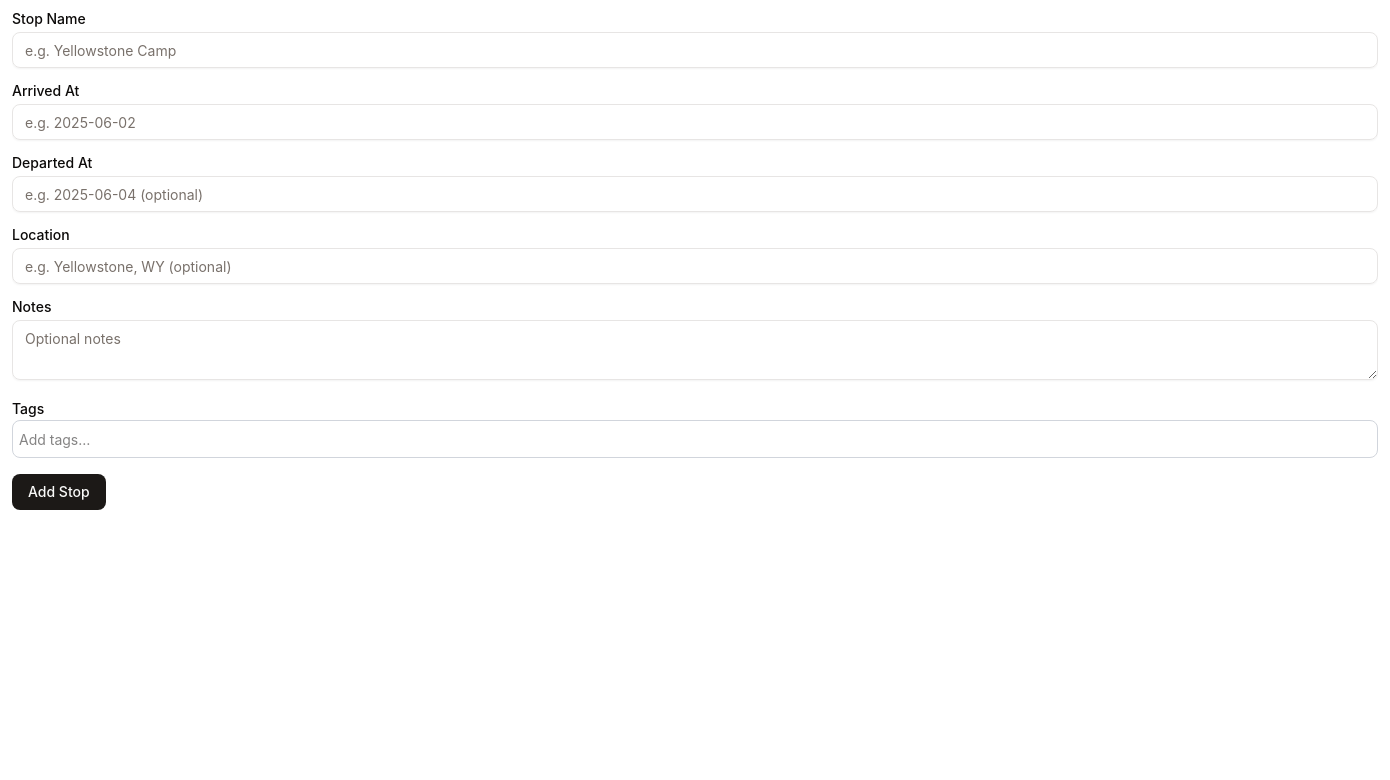
Test: StopForm › shows a validation error when submitted with an empty arrived_at
Type "Yellowstone Camp" into the field labelled "Stop Name" at (695, 50), box [12,32,1378,68]
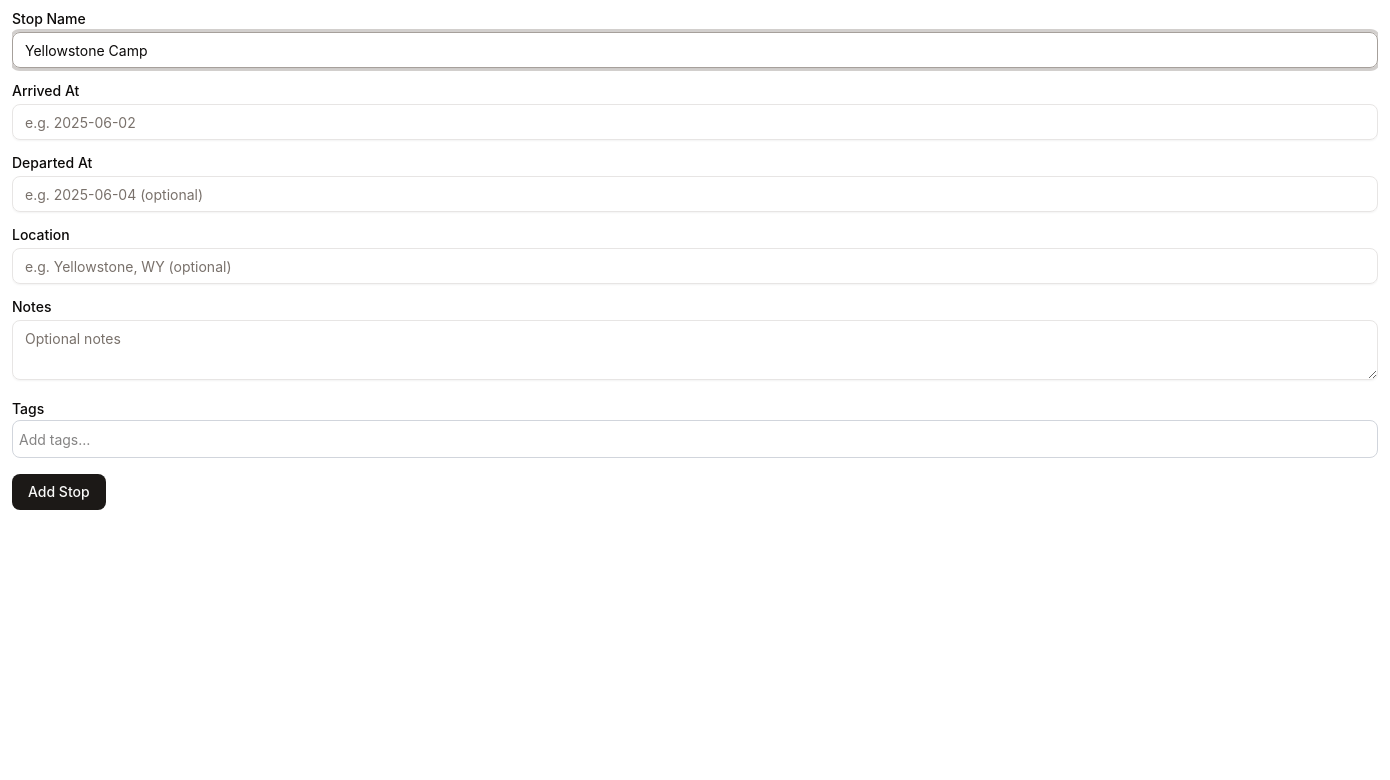
Click the button "Add Stop" at (59, 492), box [12,474,106,510]
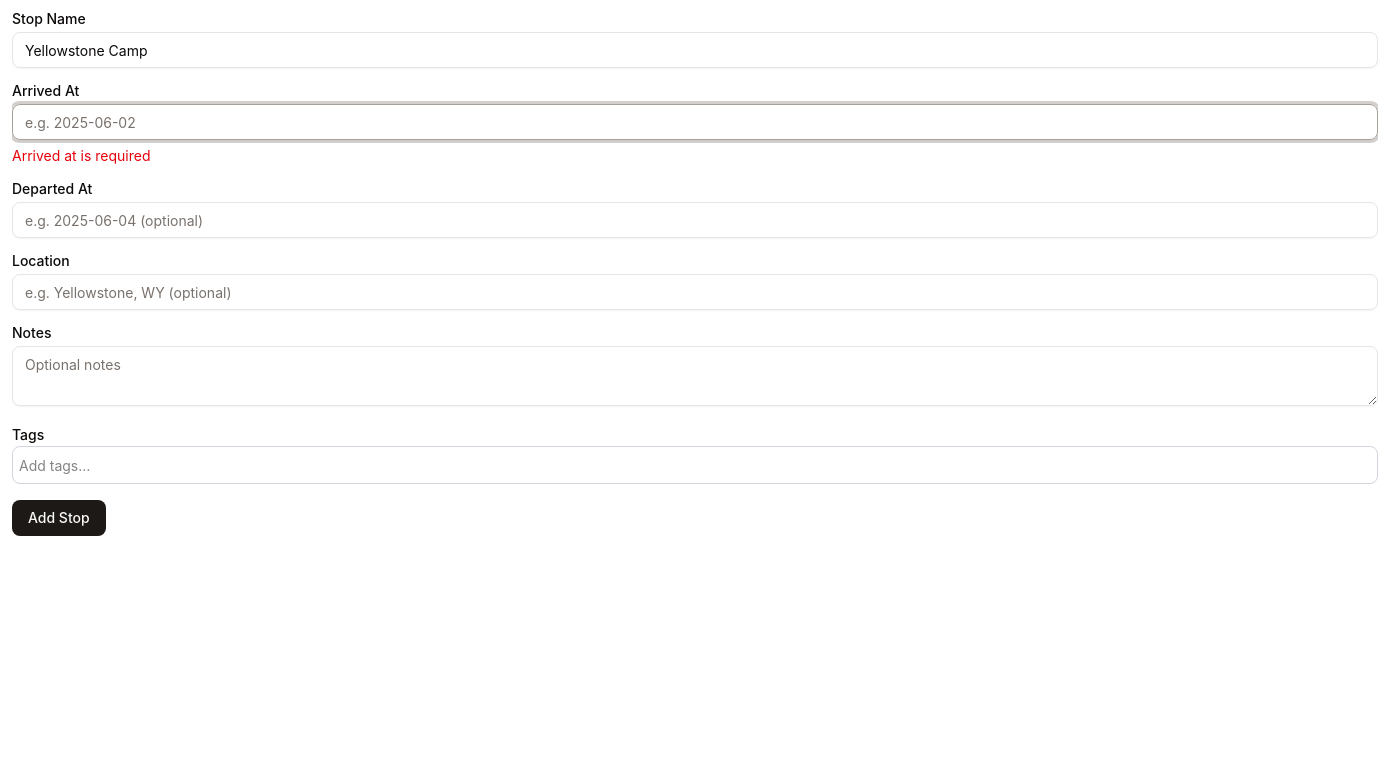
Expected: the text "Arrived at is required" is shown, [12,147,150,164]
